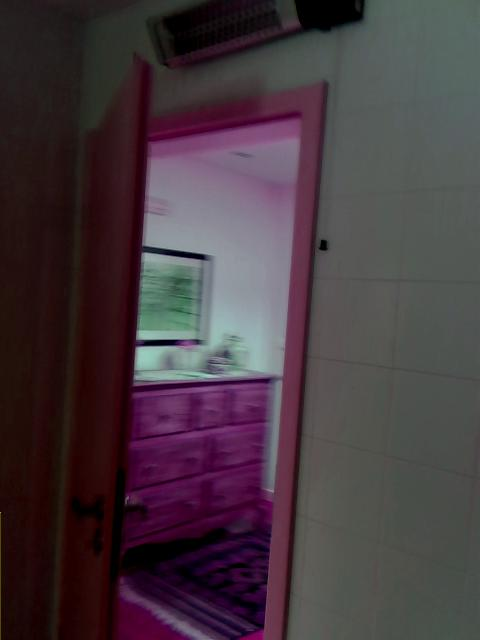semi_door: (48, 54, 330, 639)
